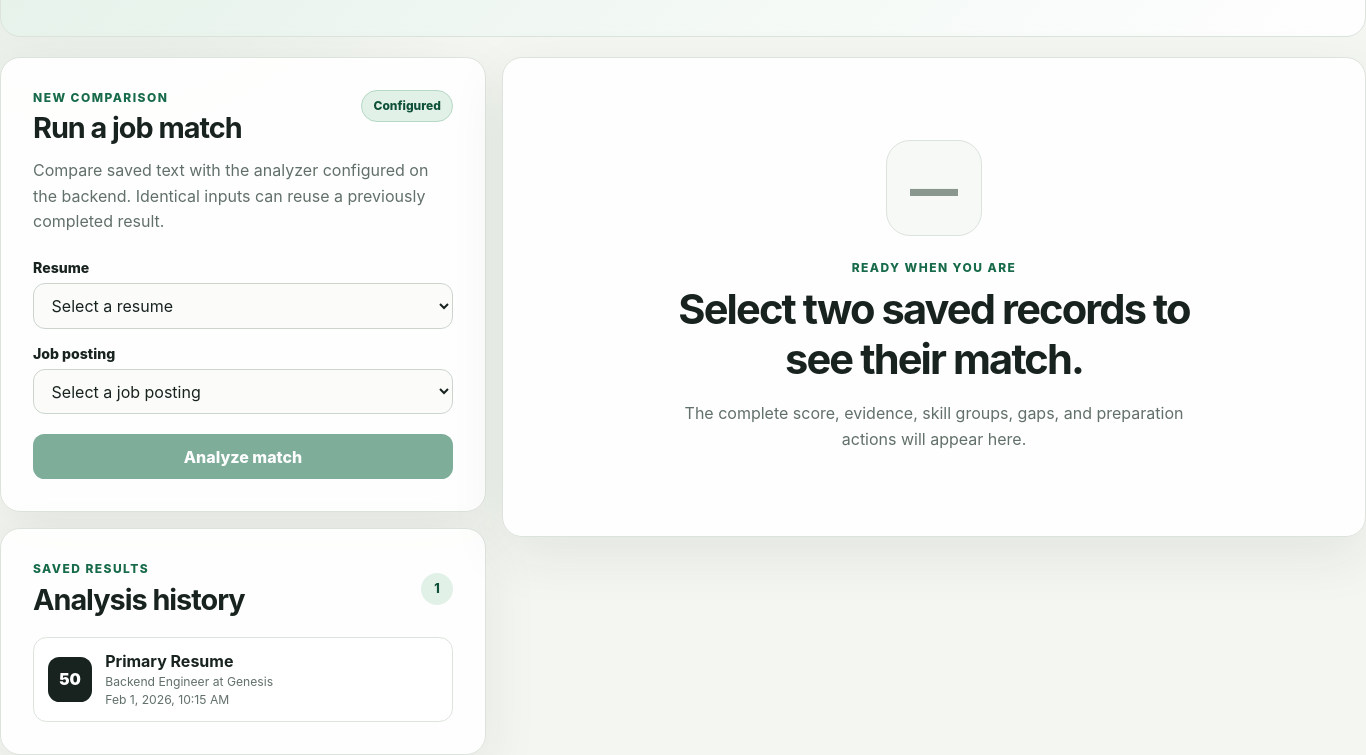
it: AnalysisPage › reopens a complete saved analysis from history
(page scrolled)
Click the button "Primary Resume": point(243, 679) top-left (33, 637), bottom-right (453, 722)
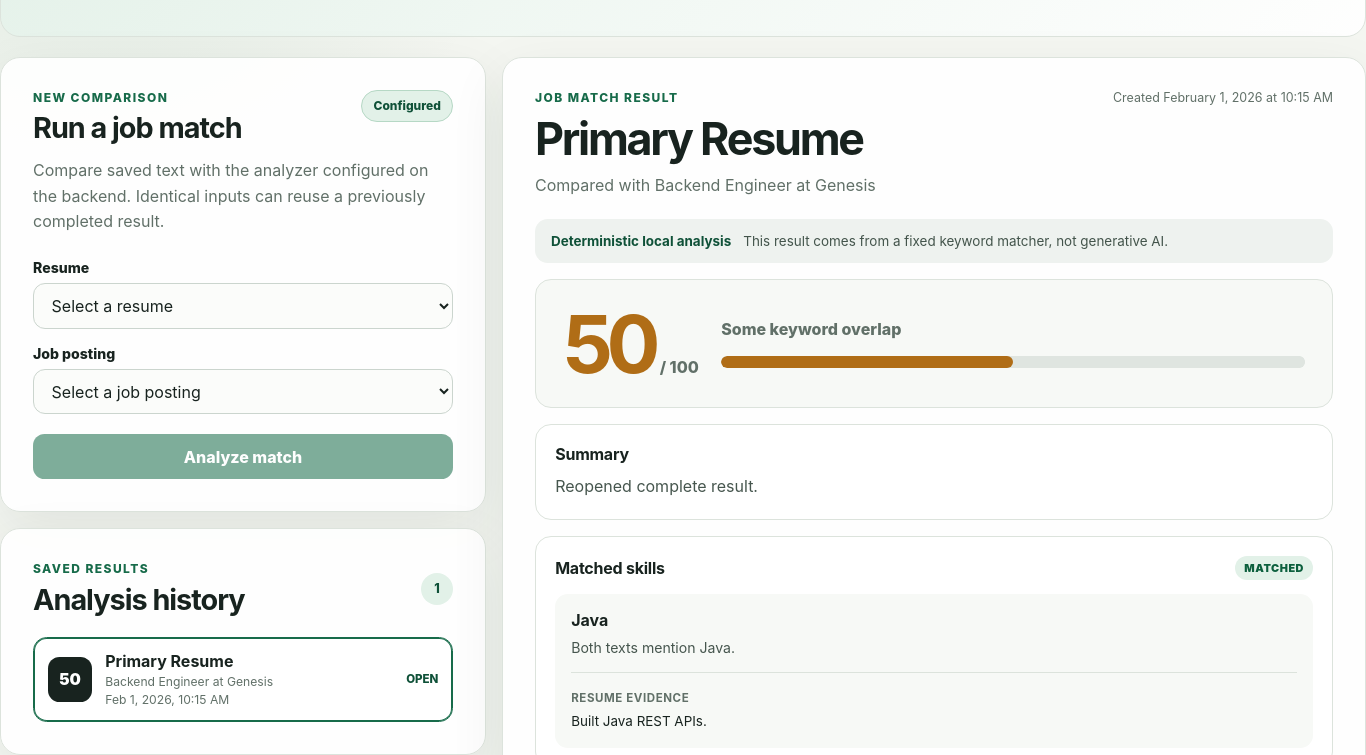
Result: the text "Reopened complete result." is shown at top-left (555, 476), bottom-right (758, 496)
